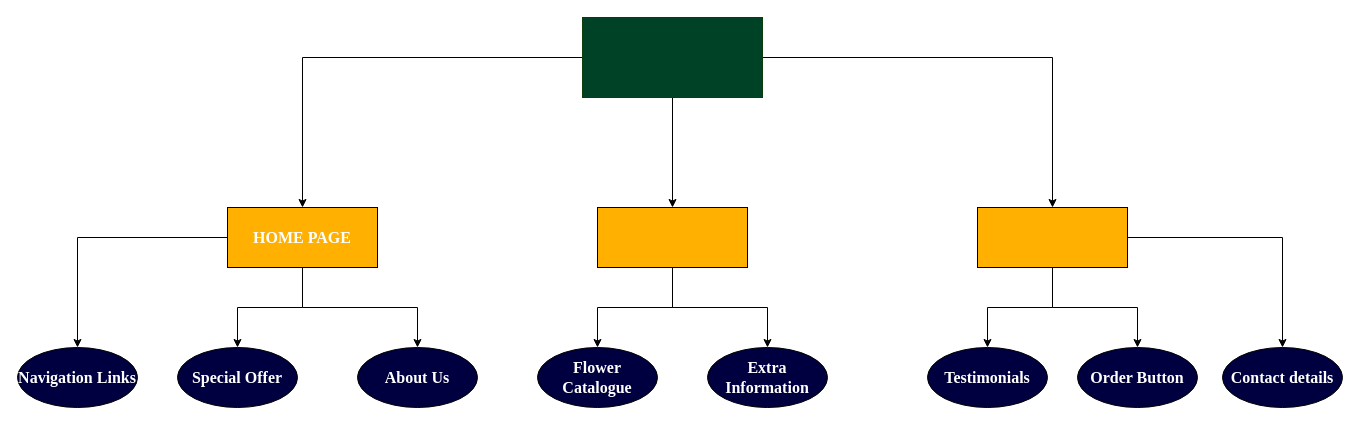
Image size: 1360x425. Some labels were removed from this diagram. The shapes that lost their labels are listed below. From the top down, each one's centre as x and y in pixels, then its label:
At point 672,57: "BUSY BEE FLORIST WEBSITE".
At point 672,237: "GARDEN PAGE".
At point 1052,237: "CONTACT PAGE".
